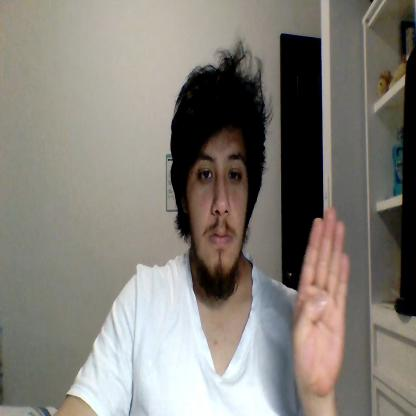B: (292, 206, 350, 392)
